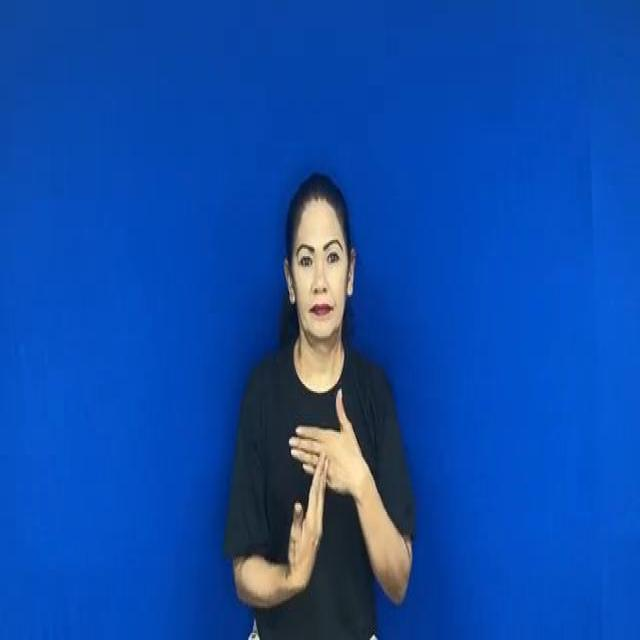bread: (279, 397, 363, 588)
